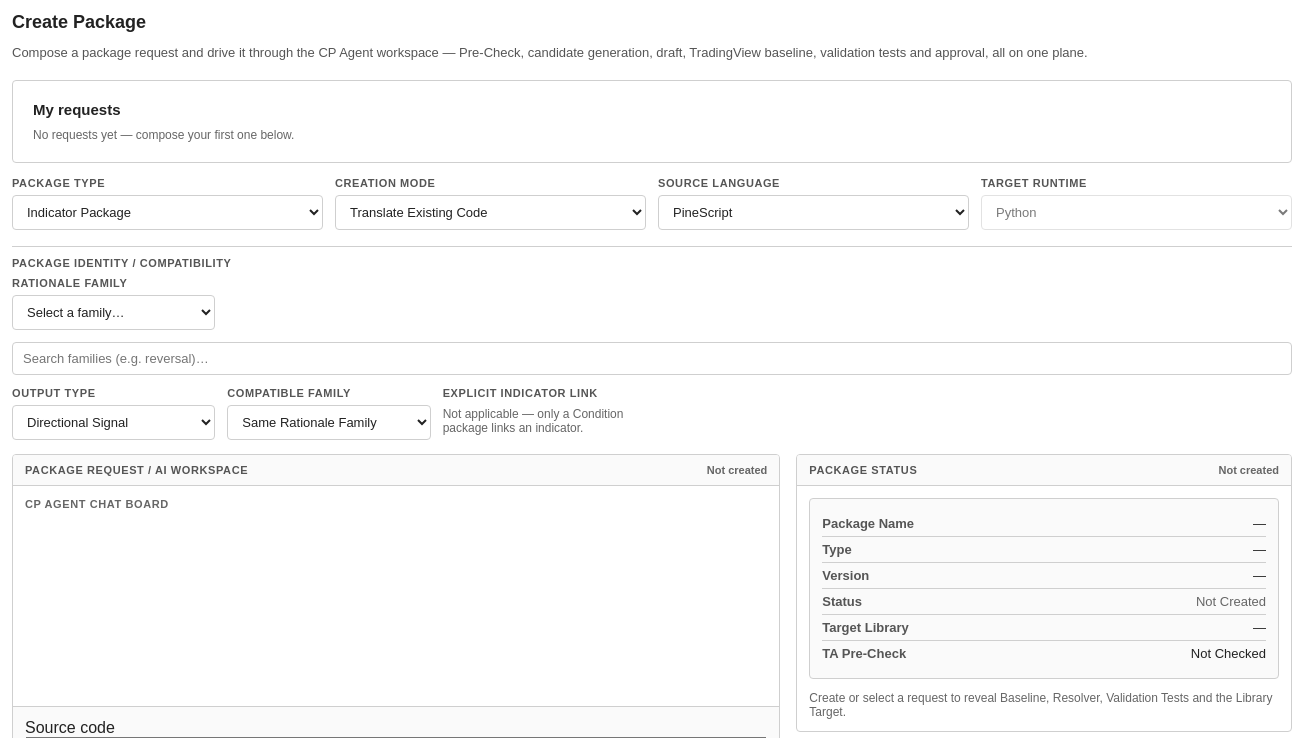
Test: Create Package — Rationale Family suggestion chips › renders a chip per suggestion, labelled with its subfamilies
This screenshot has width=1304, height=738.
Type "reversal" into the field named "Search rationale families" at (652, 358), box [12,342,1292,375]
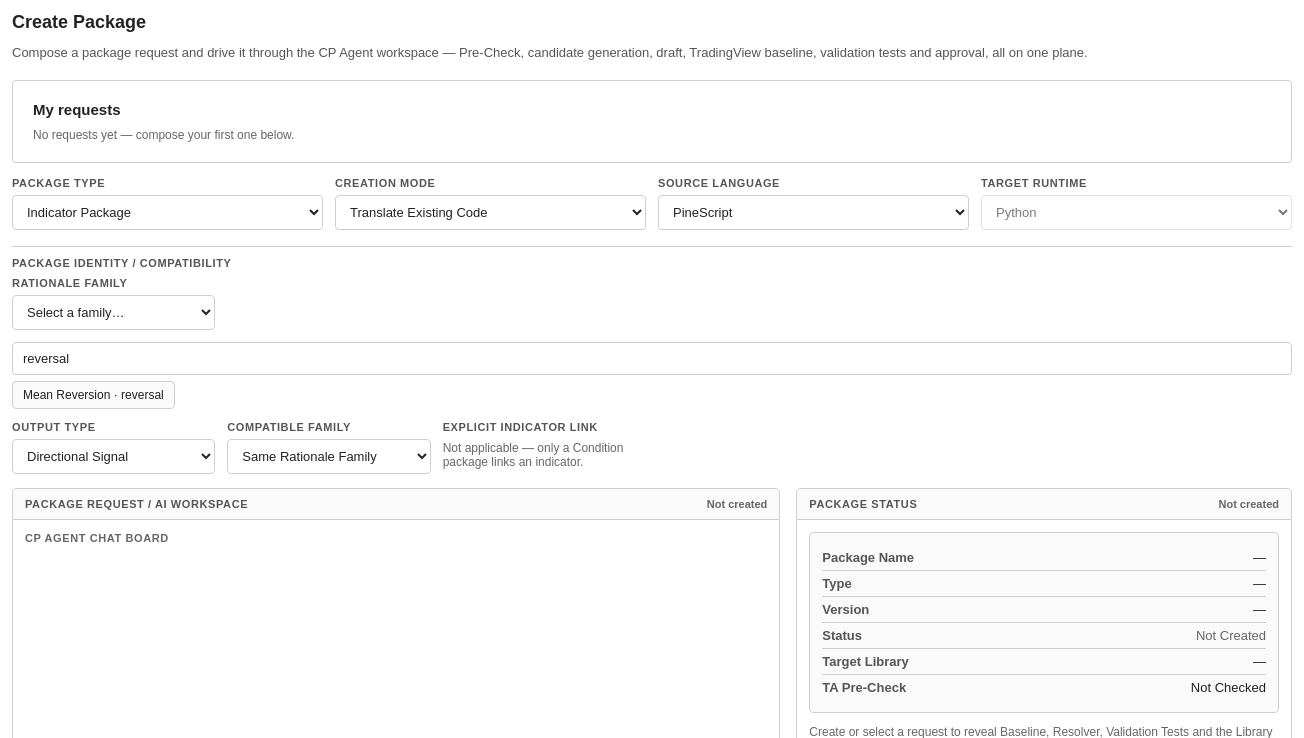
Expected: the button with aria-label "Use family Mean Reversion" reads "Mean Reversion · reversal", [12,381,175,409]
